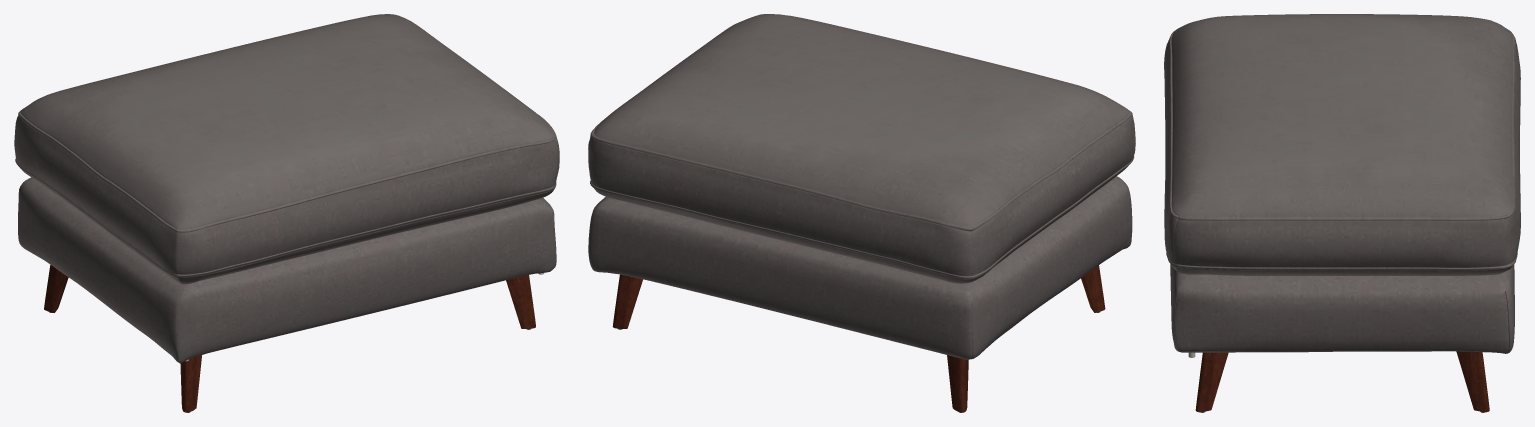
Rendered from abo-B07PC1PDQV.glb.
3 renders of one model, left to right at view 1: azimuth 30°, elevation 25°; view 2: azimuth 150°, elevation 25°; view 3: azimuth 270°, elevation 25°, orthographic. The views are drawn at different scales.
Bounding box in the file's own units: 0.811 × 0.449 × 0.608.
Materials: 1 (1 with a texture image).
